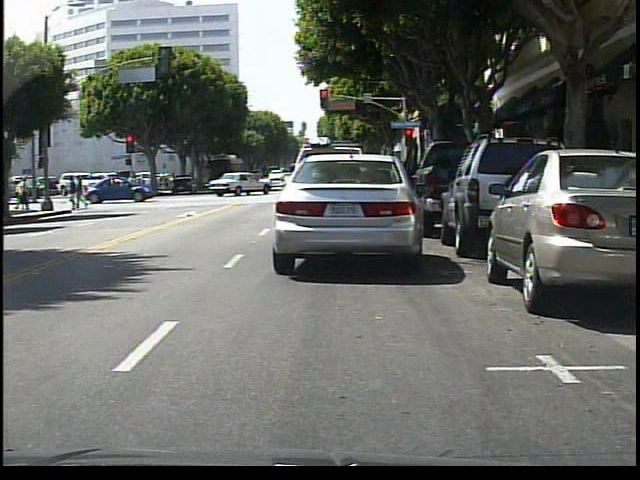person: (67, 177, 88, 210), (19, 177, 33, 211)
